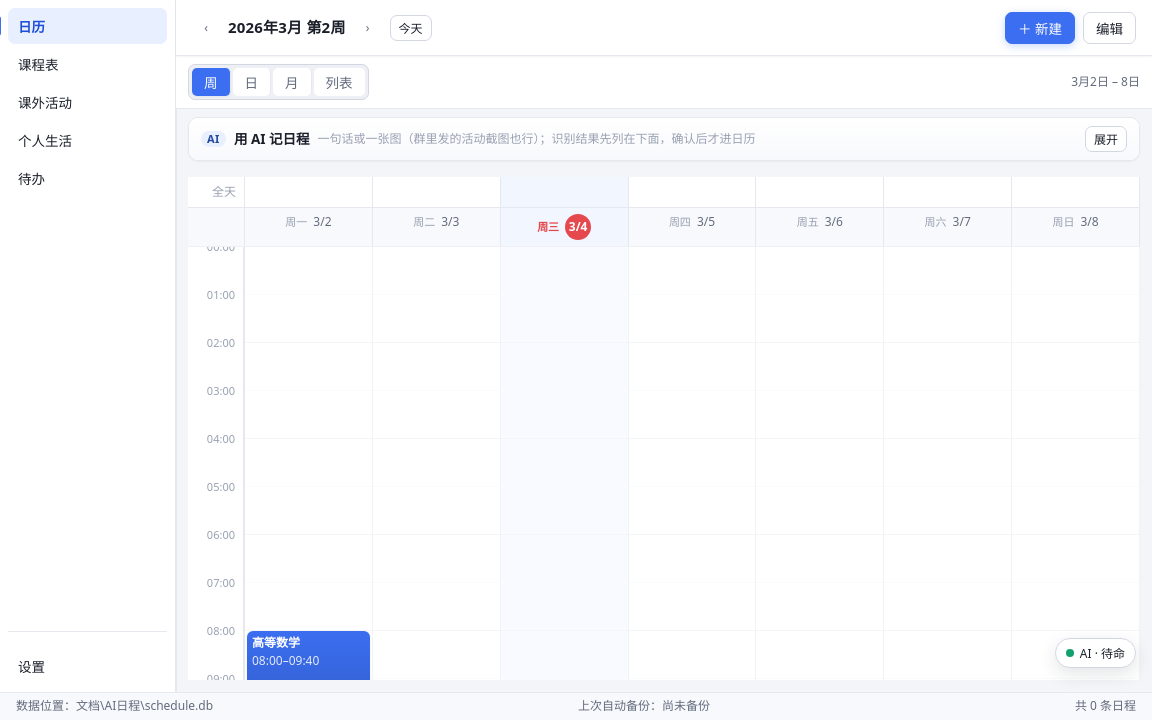
Test: 日程右键菜单 › 课程块不出现编辑、复制与删除
The width and height of the screenshot is (1152, 720).
Expected: the button with test id "block-course:c1:2026-03-02" is shown, 247,631 -> 370,680
Click the button "编辑" at (1110, 28), box 1083,12 -> 1136,44
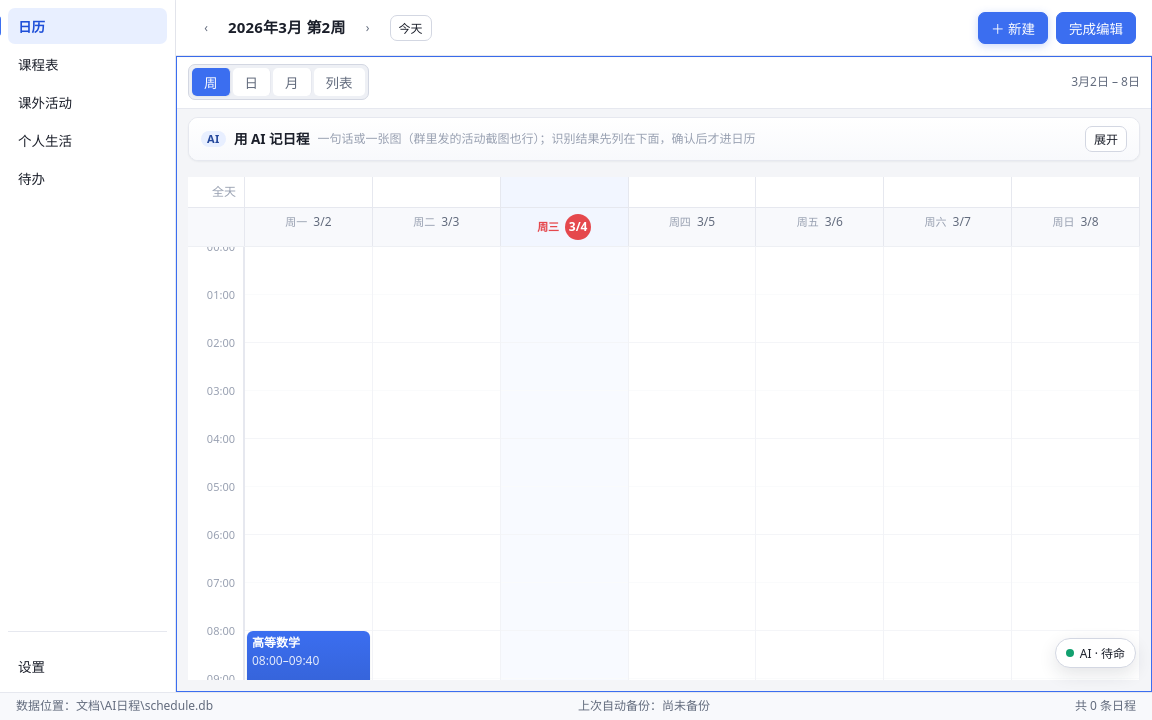
Right-click the button with test id "block-course:c1:2026-03-02" at (308, 671), box 247,631 -> 370,711
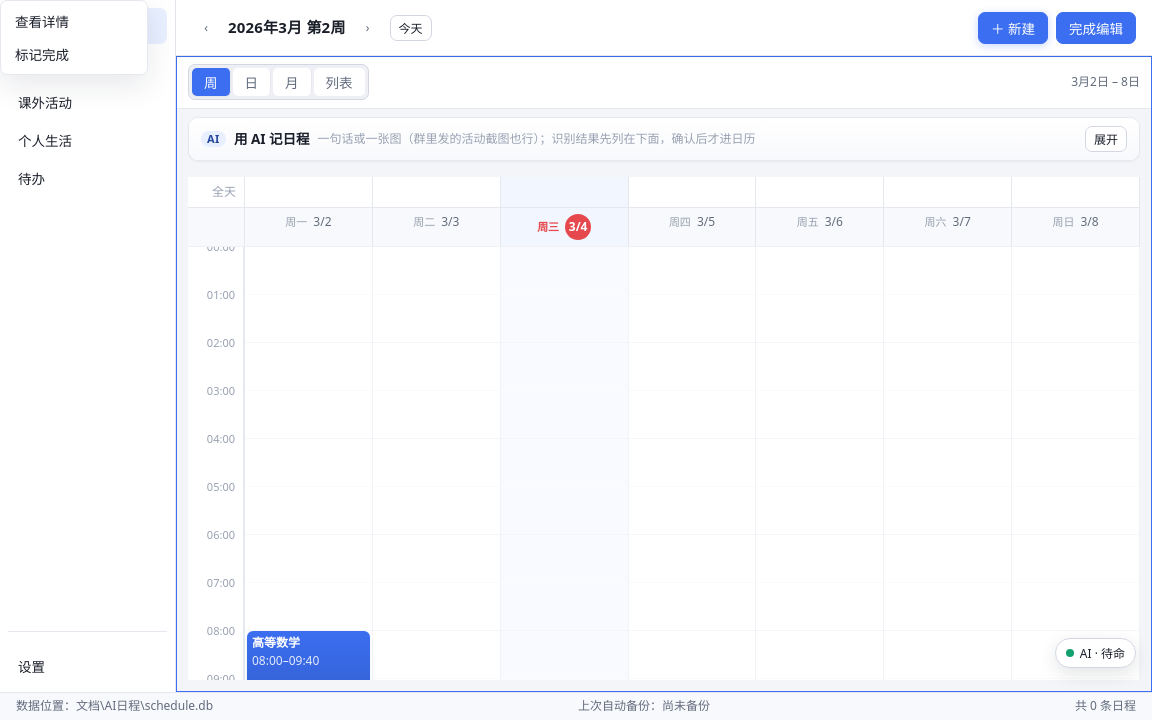
Now the menu items read "查看详情", "标记完成", in this order, box 5,5 -> 143,37; 5,38 -> 143,70
